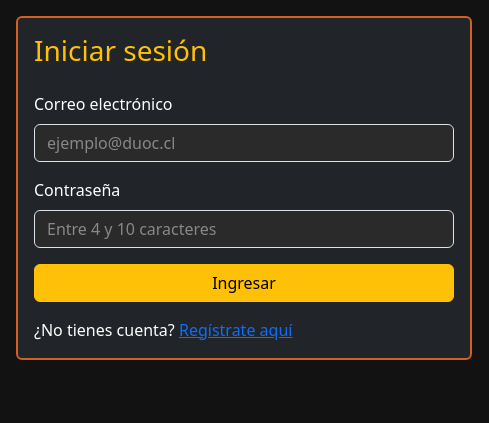
it: Página Login › debería mostrar un error en tiempo real si el dominio no es válido
Type "ana@hotmail.com" into the field labelled "Correo electrónico".
click(244, 143); type("ana@hotmail.com")  # box [34,124,454,162]
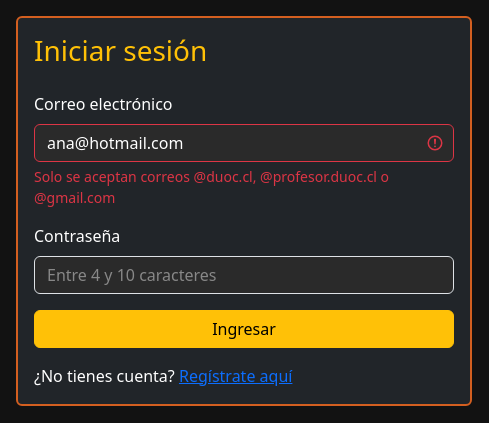
Expected: the text "Solo se aceptan" is shown, [34,167,389,207]
